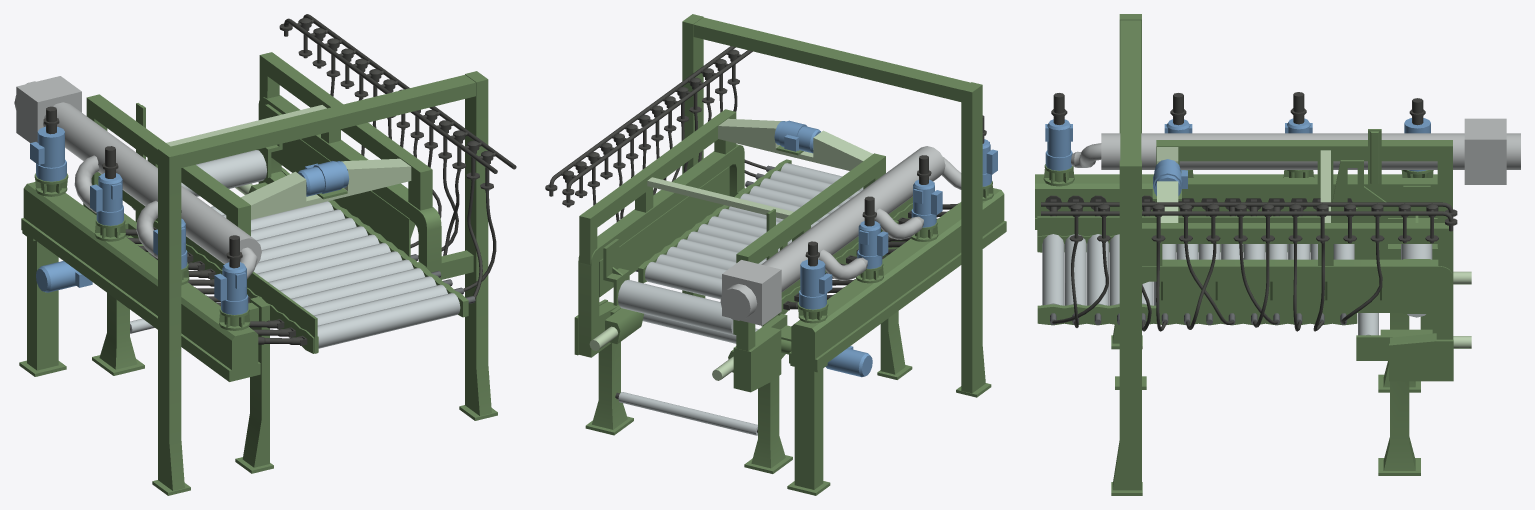
The model's file is CollingRolls.FBX.
3 views of the same model, side by side, from view 1: azimuth 30°, elevation 25°; view 2: azimuth 150°, elevation 25°; view 3: azimuth 270°, elevation 25° (orthographic). The views are drawn at different scales.
Parts seen in each view (by area): view 1: Object_03_CollingRolls; view 2: Object_03_CollingRolls; view 3: Object_03_CollingRolls.
Boxes of the visible parts, left/top/right/bottom form: Object_03_CollingRolls: left=14, top=14, right=516, bottom=495; Object_03_CollingRolls: left=545, top=14, right=1006, bottom=495; Object_03_CollingRolls: left=1035, top=14, right=1520, bottom=495.
Bounding box in the file's own units: 31.32 × 30.35 × 40.86.
